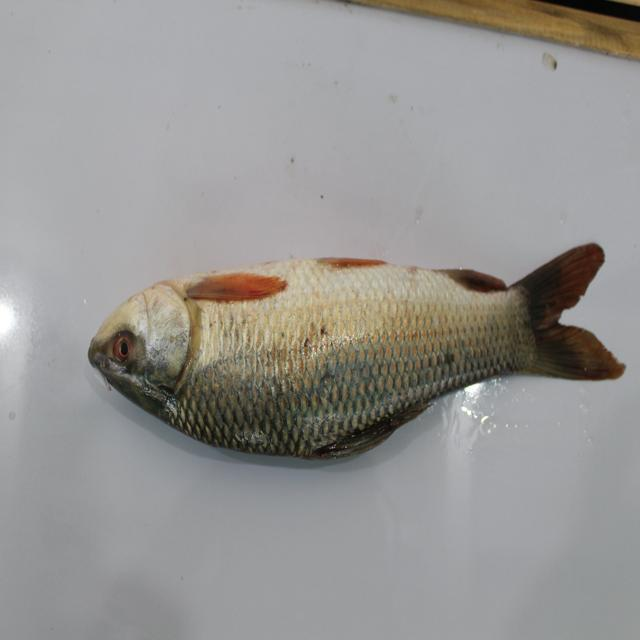Rohu: (89, 248, 610, 461)
